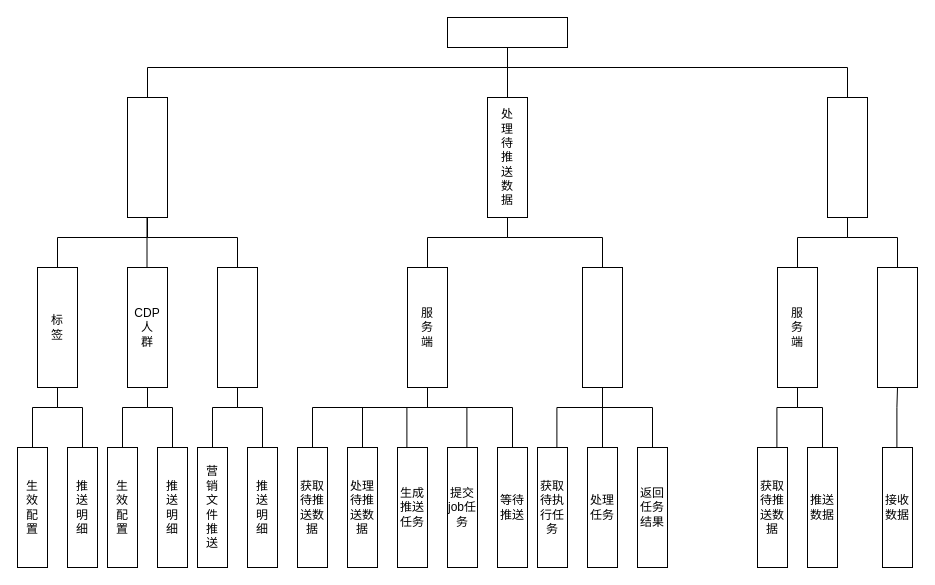
The diagram is 935 pixels wide and 585 high, and some of its shapes have lost their labels. Here are the shapes that lost their labels. From the top down, the centre of each, then its label:
At [507,32]: "EZR对接配置管理".
At [147,157]: "创 建 待 推 送 数 据".
At [847,157]: "推 送 数 据".
At [237,327]: "营 销 人 群".
At [602,327]: "a z k a b a n".
At [897,327]: "EZR 系 统".
